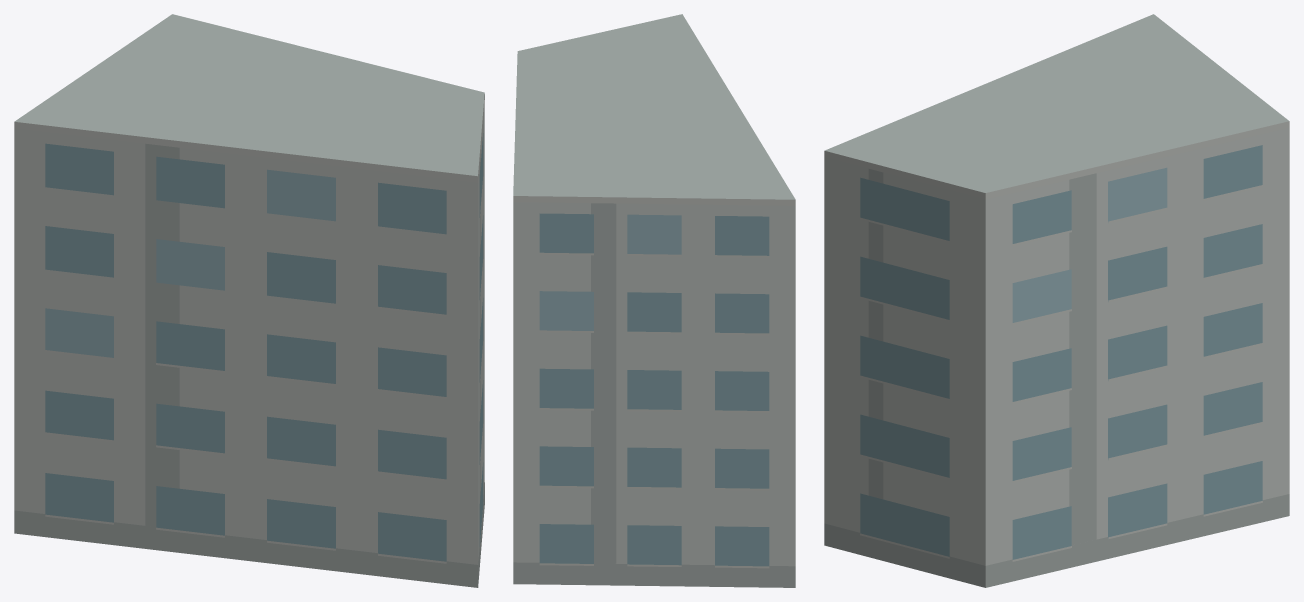
The model's file is residential-847907c9-04c2-49d1-b5e7-a1549b7c5919.glb.
3 views of the same model, side by side, from view 1: azimuth 30°, elevation 25°; view 2: azimuth 150°, elevation 25°; view 3: azimuth 270°, elevation 25° (orthographic). The views are drawn at different scales.
Parts seen in each view (by area): view 1: residential-847907c9-04c2-49d1-b5e7-a1549b7c5919.tmp; view 2: residential-847907c9-04c2-49d1-b5e7-a1549b7c5919.tmp; view 3: residential-847907c9-04c2-49d1-b5e7-a1549b7c5919.tmp.
Boxes of the visible parts, left/top/right/bottom form: residential-847907c9-04c2-49d1-b5e7-a1549b7c5919.tmp: left=14, top=14, right=484, bottom=587; residential-847907c9-04c2-49d1-b5e7-a1549b7c5919.tmp: left=513, top=14, right=795, bottom=587; residential-847907c9-04c2-49d1-b5e7-a1549b7c5919.tmp: left=824, top=14, right=1289, bottom=587.
Bounding box in the file's own units: 14.85 × 15.25 × 16.3.
